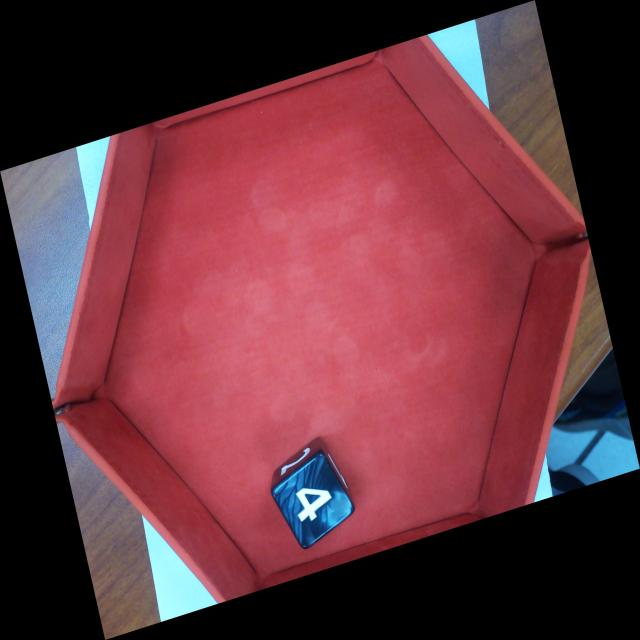dice: (270, 447, 356, 553)
